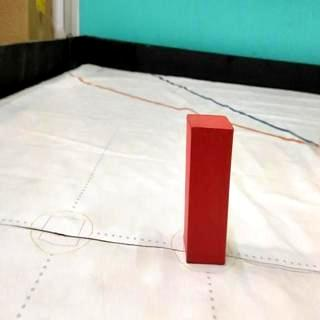redbox: (182, 112, 235, 266)
